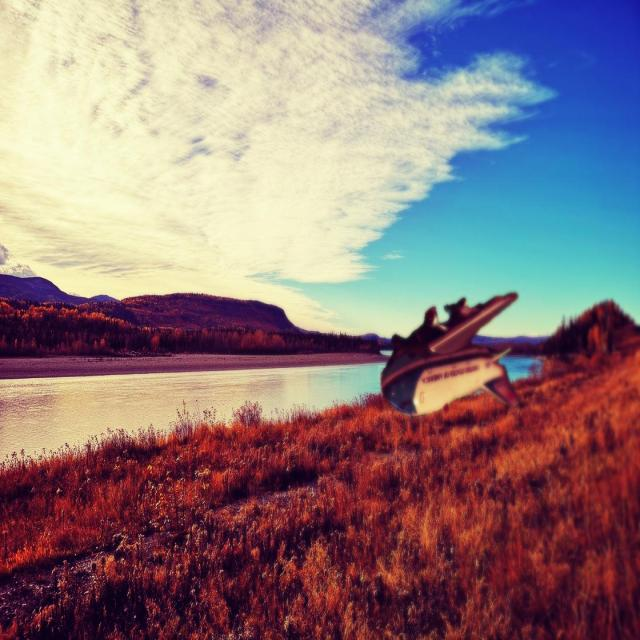airplane: (379, 290, 521, 416)
